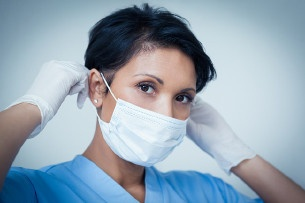Mask: (105, 64, 206, 166)
